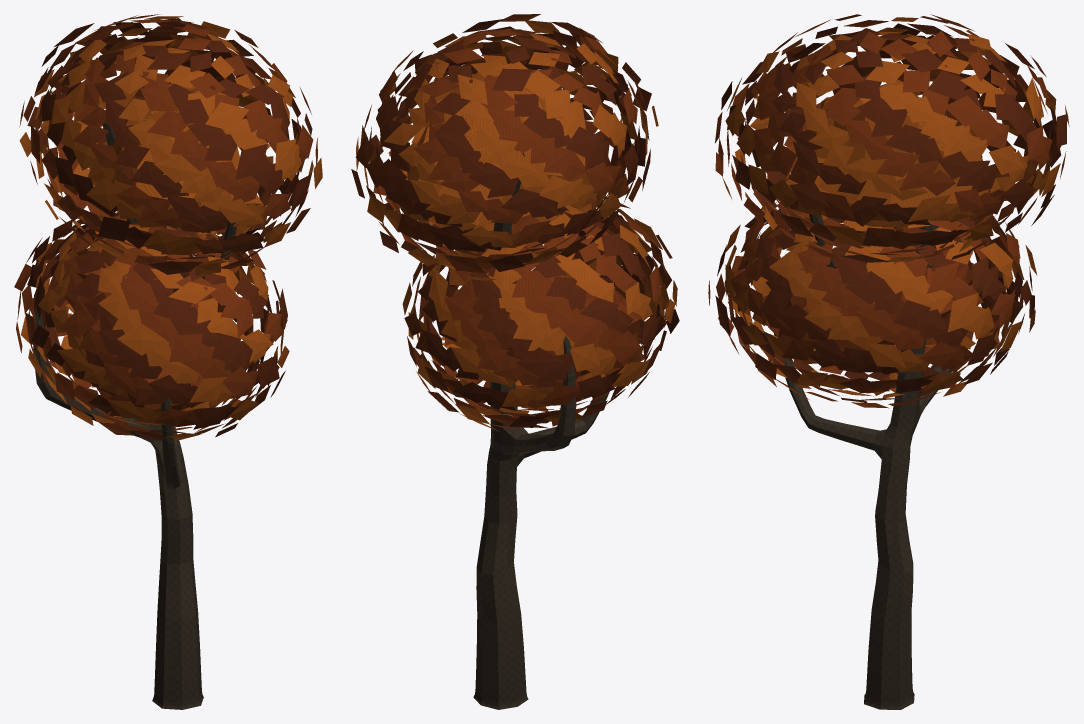
Rendered from autumn-tree.glb.
3 renders of one model, left to right at view 1: azimuth 30°, elevation 25°; view 2: azimuth 150°, elevation 25°; view 3: azimuth 270°, elevation 25°, orthographic.
Parts seen in each view (by area): view 1: autumn-tree-leaf-envelope-2, autumn-tree-leaf-envelope-1, autumn-tree-trunk-and-branches, autumn-tree-canopy-lobe-2, autumn-tree-canopy-lobe-1; view 2: autumn-tree-leaf-envelope-2, autumn-tree-leaf-envelope-1, autumn-tree-trunk-and-branches, autumn-tree-canopy-lobe-2, autumn-tree-canopy-lobe-1; view 3: autumn-tree-leaf-envelope-2, autumn-tree-leaf-envelope-1, autumn-tree-trunk-and-branches, autumn-tree-canopy-lobe-2, autumn-tree-canopy-lobe-1.
Part boxes in pixels (x1,y1,x2,y2): autumn-tree-leaf-envelope-2: [19, 14, 322, 275]; autumn-tree-leaf-envelope-1: [14, 209, 289, 440]; autumn-tree-trunk-and-branches: [33, 122, 236, 709]; autumn-tree-canopy-lobe-2: [111, 83, 264, 211]; autumn-tree-canopy-lobe-1: [65, 250, 214, 411]; autumn-tree-leaf-envelope-2: [351, 14, 658, 280]; autumn-tree-leaf-envelope-1: [402, 196, 679, 431]; autumn-tree-trunk-and-branches: [473, 153, 609, 709]; autumn-tree-canopy-lobe-2: [399, 72, 590, 230]; autumn-tree-canopy-lobe-1: [471, 275, 641, 377]; autumn-tree-leaf-envelope-2: [715, 14, 1069, 262]; autumn-tree-leaf-envelope-1: [708, 202, 1037, 408]; autumn-tree-trunk-and-branches: [774, 111, 962, 709]; autumn-tree-canopy-lobe-2: [785, 79, 1000, 227]; autumn-tree-canopy-lobe-1: [778, 226, 972, 350].
Bounding box in the file's own units: 3.61 × 8.93 × 4.38.
Materials: 6 (6 with a texture image).
